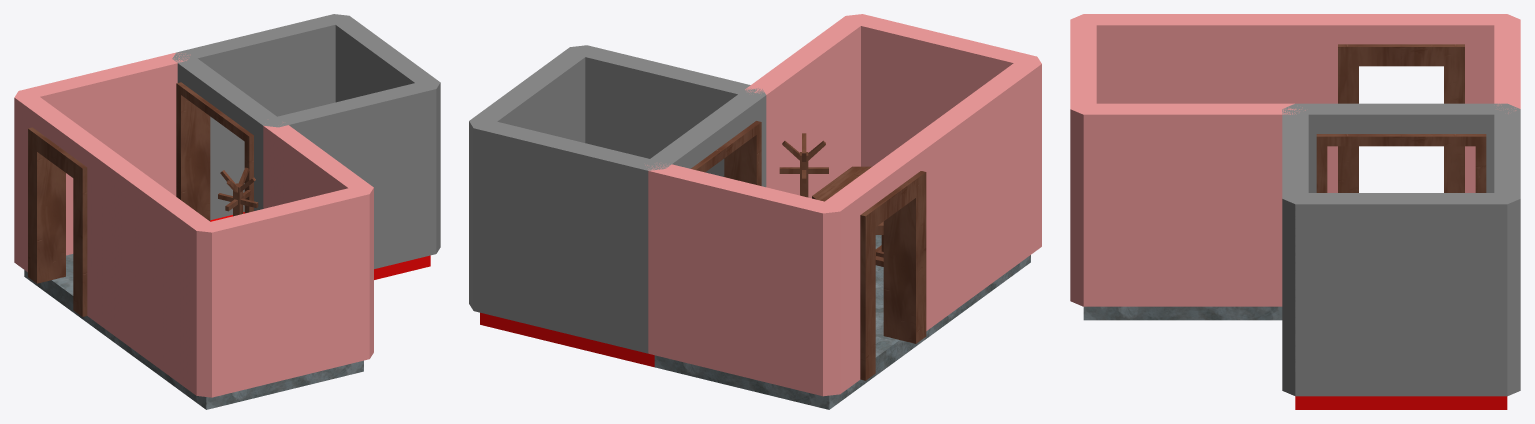
Rendered from Level_1_0_Start.fbx.
3 views of the same model, side by side, from view 1: azimuth 30°, elevation 25°; view 2: azimuth 150°, elevation 25°; view 3: azimuth 270°, elevation 25° (orthographic). The views are drawn at different scales.
Parts seen in each view (by area): view 1: mergedBlocks; view 2: mergedBlocks; view 3: mergedBlocks.
Boxes of the visible parts, x1=… form: mergedBlocks: x1=14, y1=14, x2=440, y2=409; mergedBlocks: x1=469, y1=14, x2=1041, y2=409; mergedBlocks: x1=1070, y1=14, x2=1520, y2=409.
Size of the model in its own units: 43.1 by 22 by 42.5.
